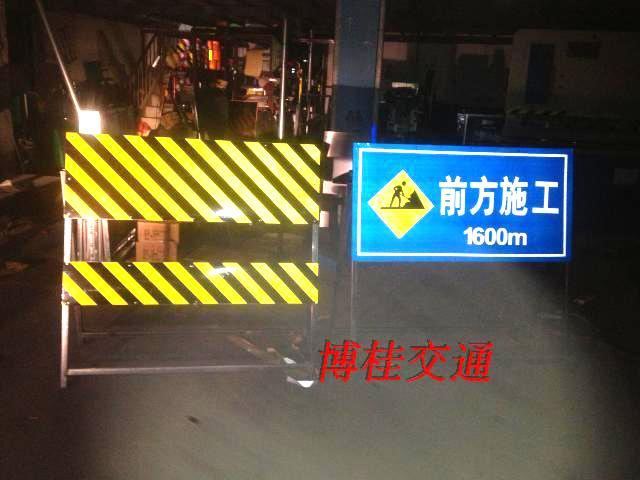sign: (356, 144, 568, 257), (66, 134, 320, 226)
